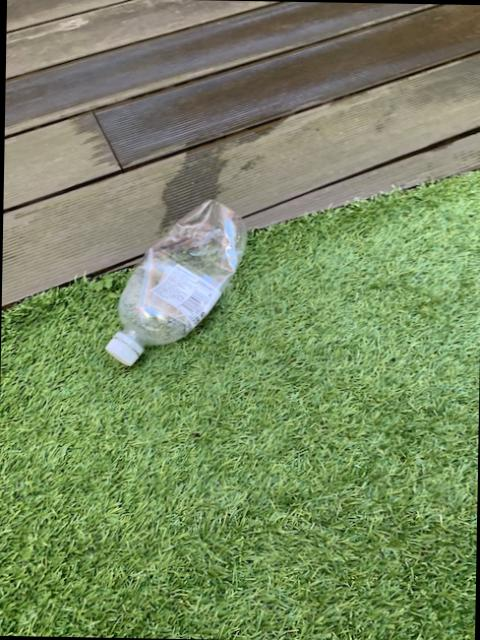plastic: (106, 198, 245, 363)
